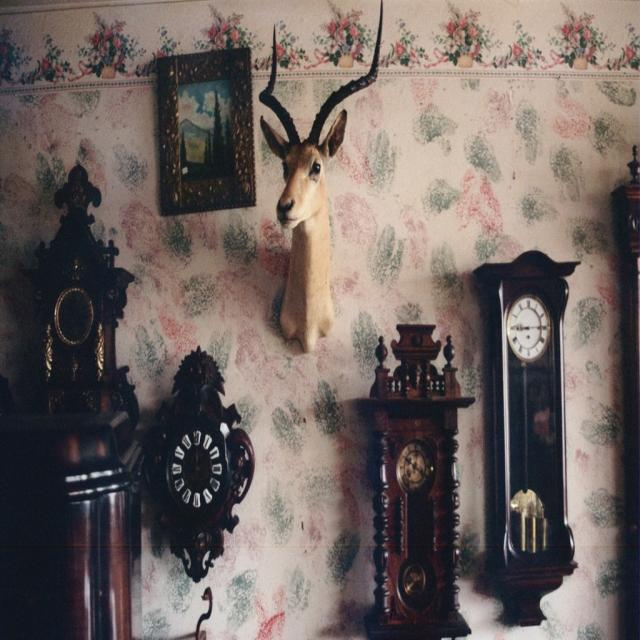Deer: (258, 0, 381, 357)
